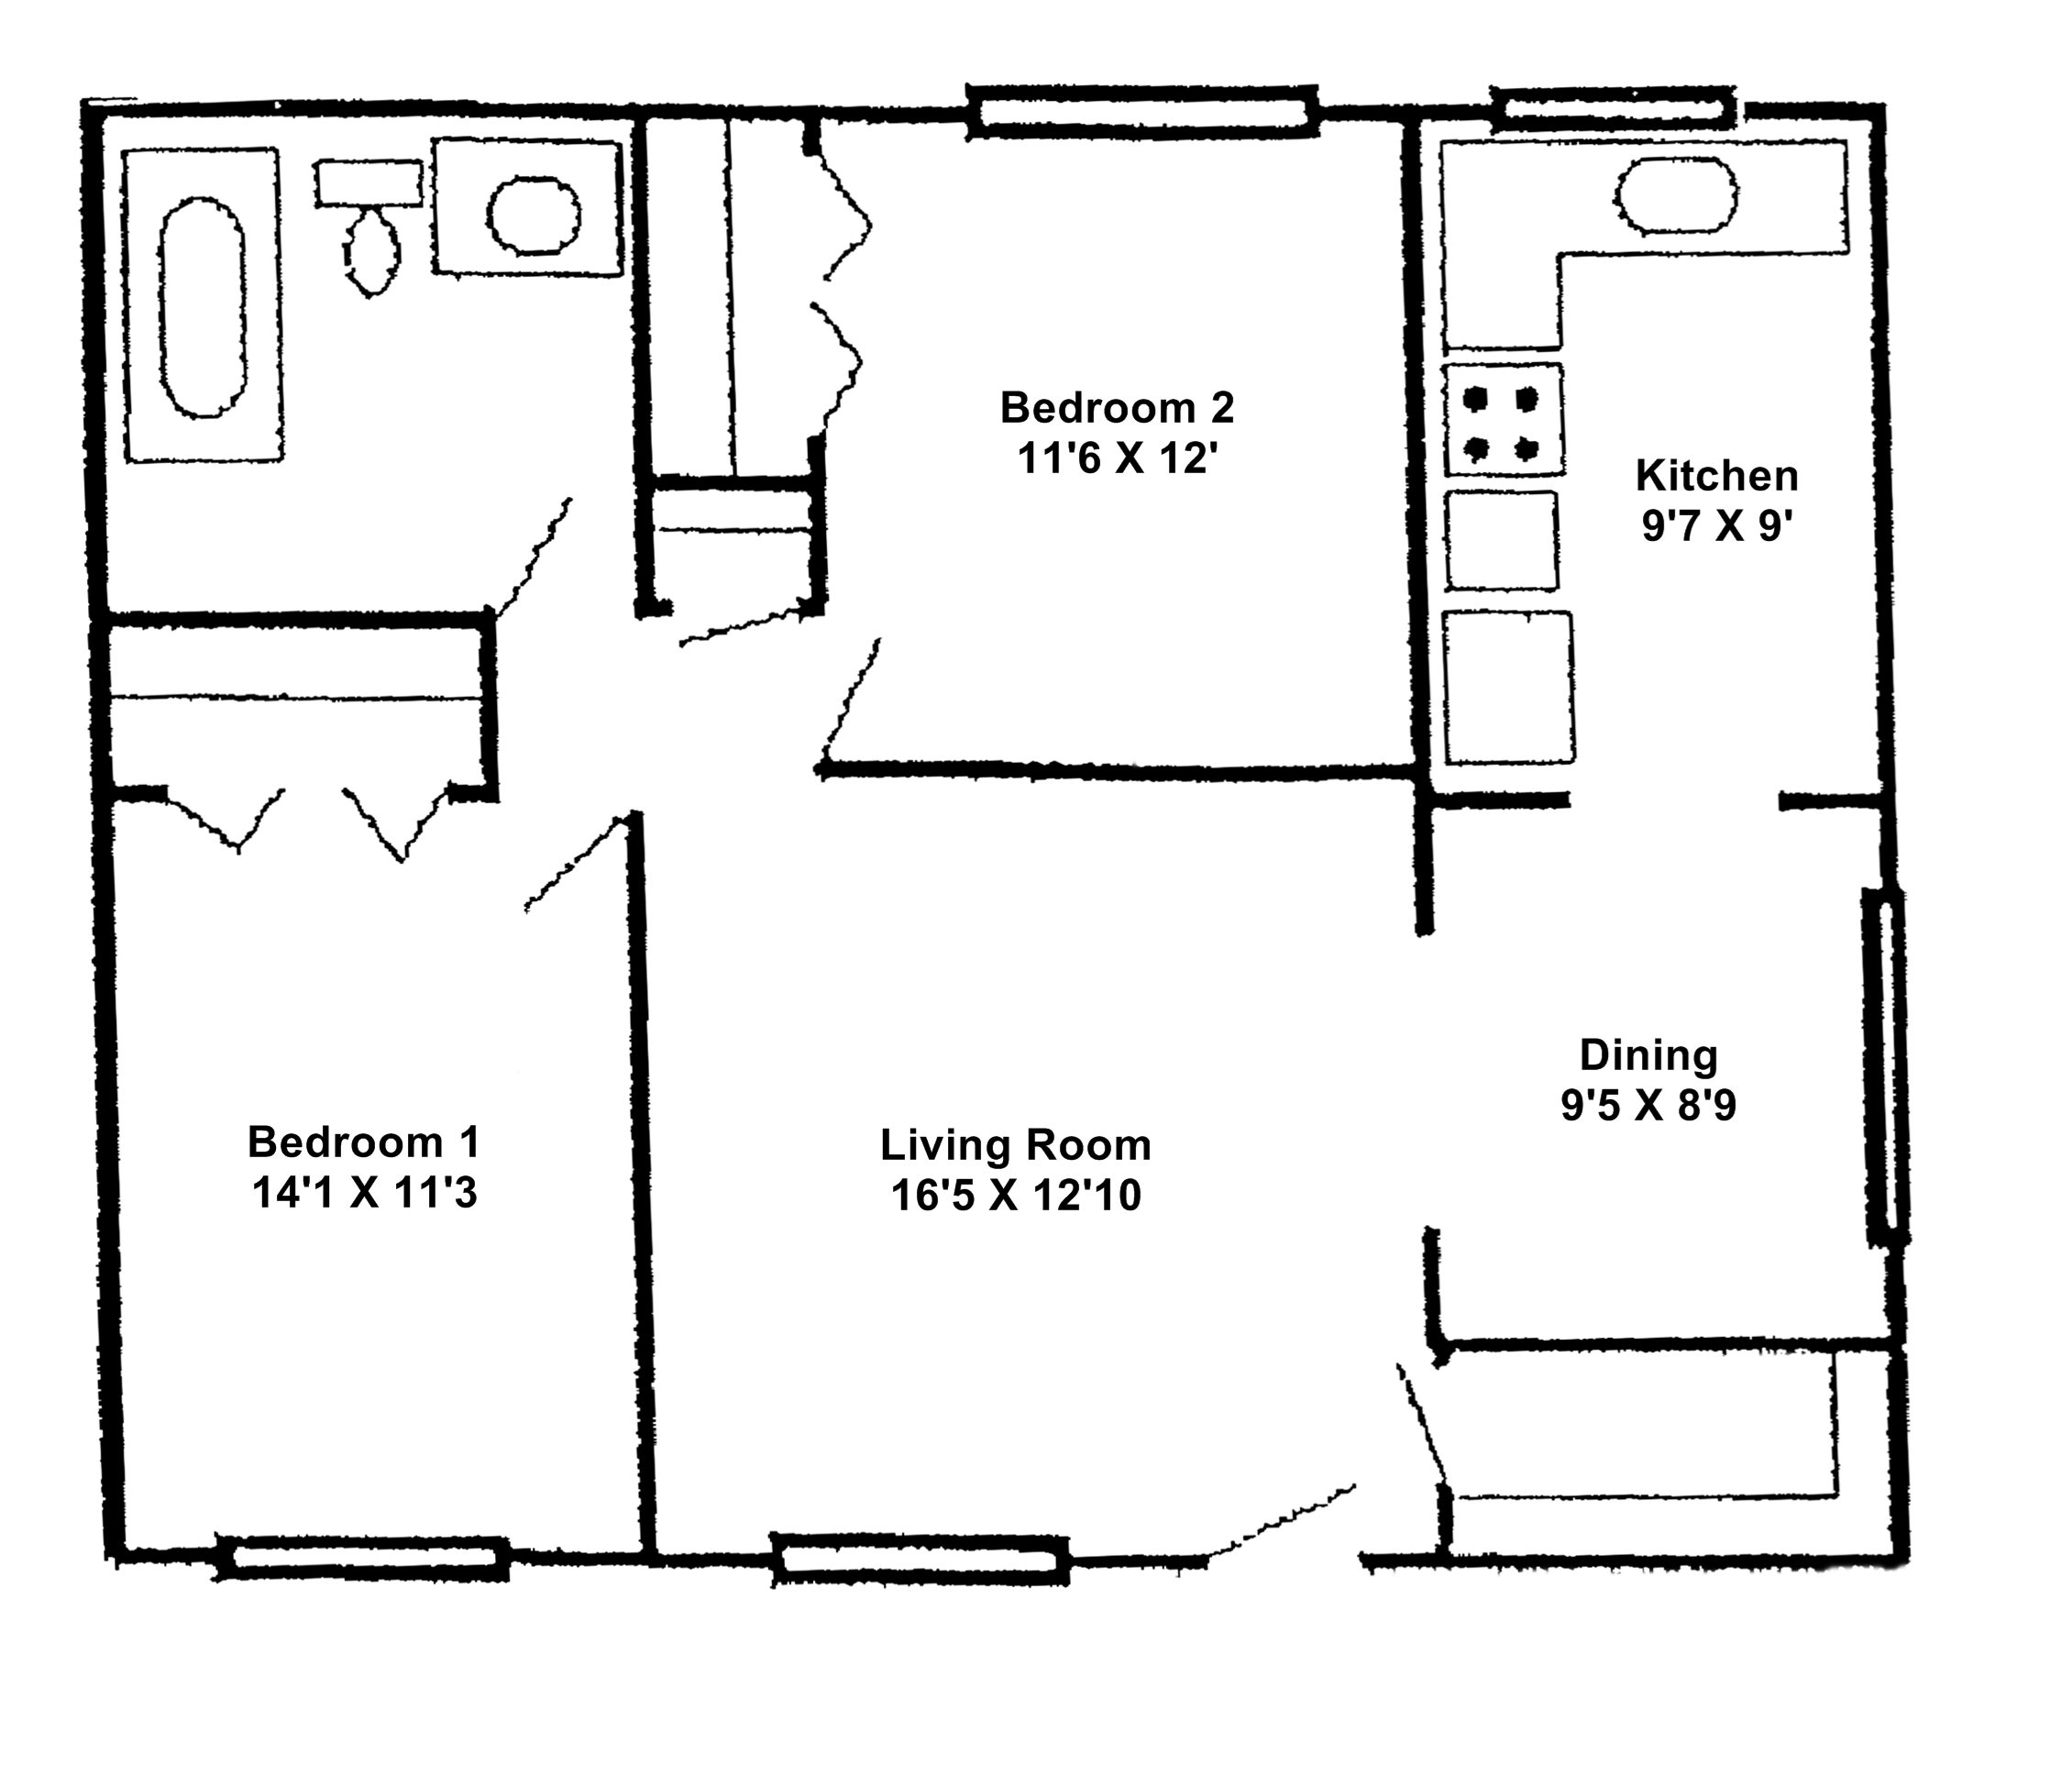room: (628, 760, 1440, 1569), (635, 102, 1442, 783), (103, 786, 667, 1574), (1403, 100, 1907, 807), (87, 98, 660, 629), (1417, 793, 1916, 1350), (1424, 1338, 1916, 1574)
